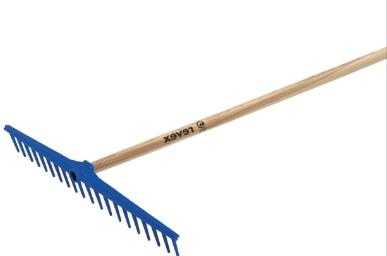RATEAU: (0, 2, 387, 256)
